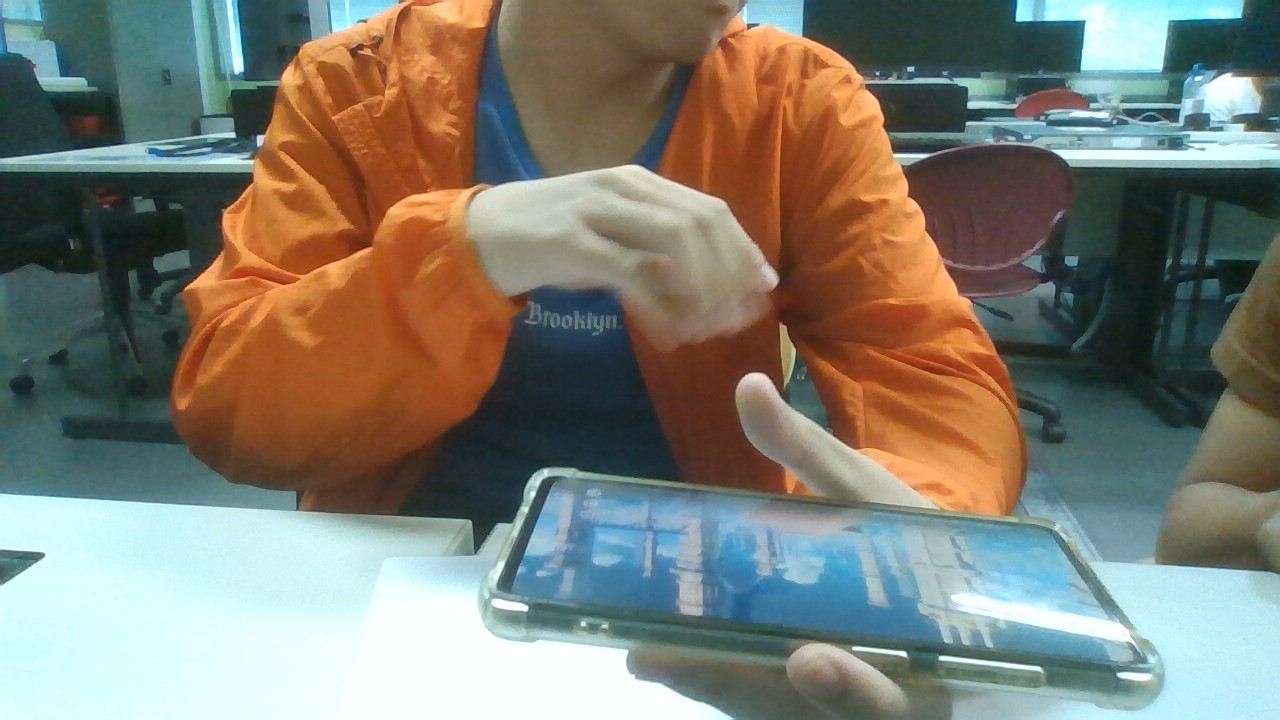phone: (478, 466, 1166, 711)
